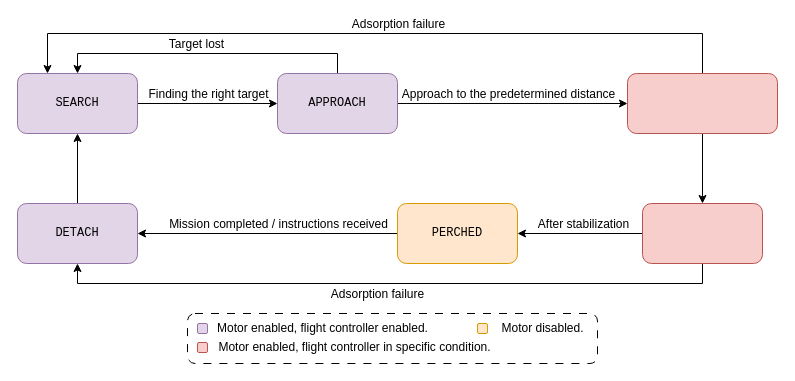
The diagram is 795 pixels wide and 381 high, and some of its shapes have lost their labels. Each missing label, with the box of its shape:
ADHESION: (642, 202, 762, 264)
CONTACT DETECTION: (626, 72, 778, 134)
